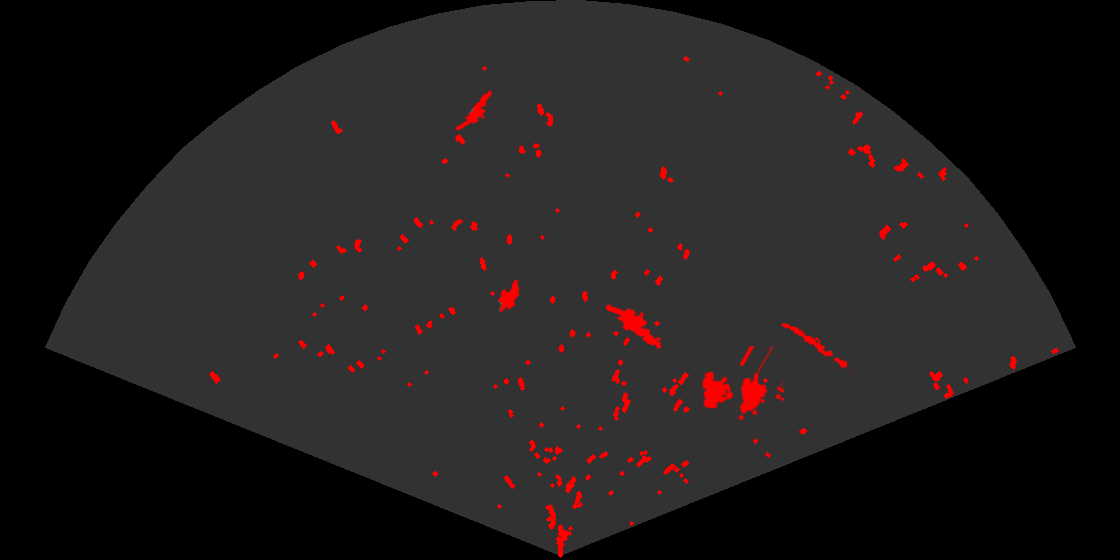AUV: (496, 277, 521, 314)
cage: (700, 346, 784, 422)
chain: (780, 321, 857, 374)
frogman: (609, 303, 672, 351), (456, 87, 500, 130)
